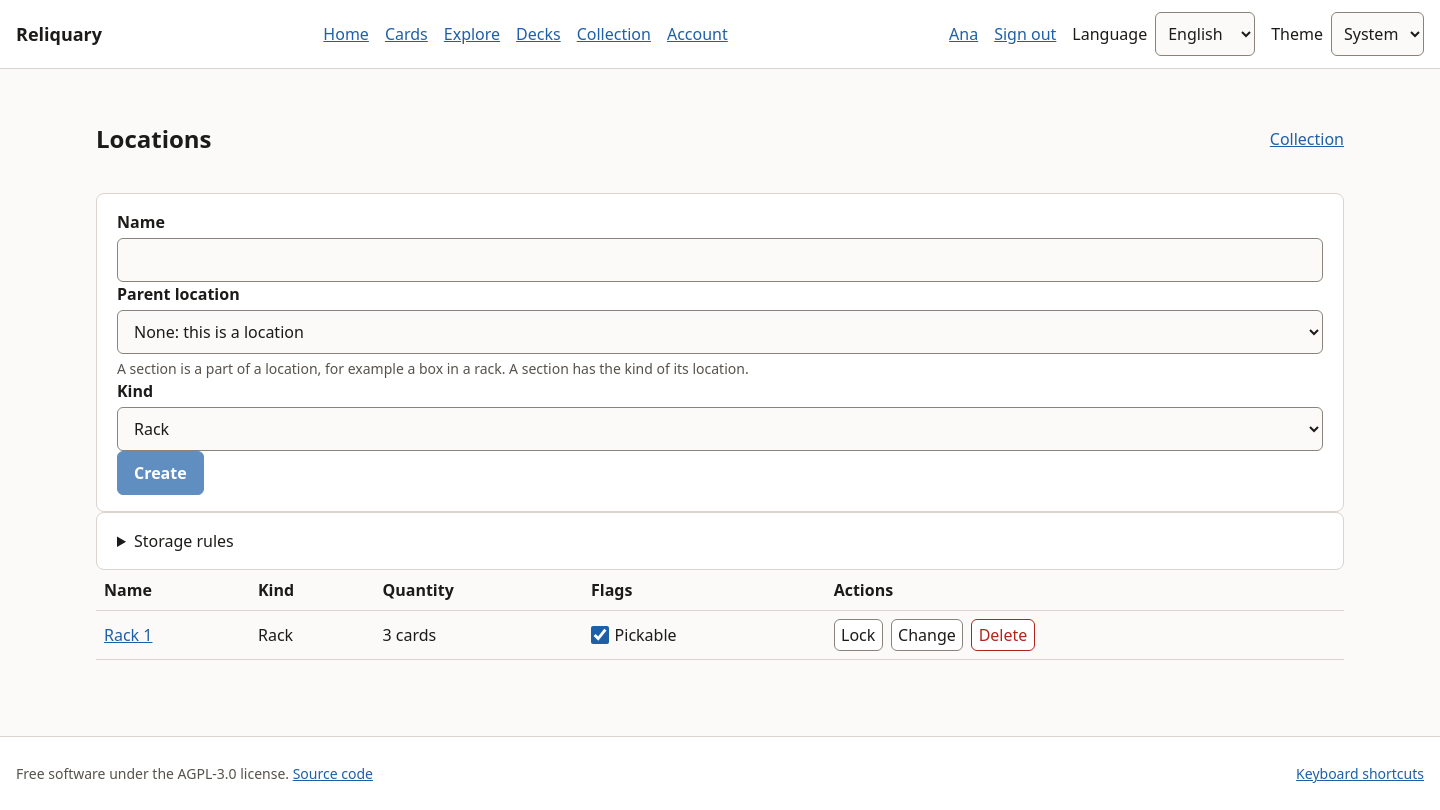
Scenario: collection › locks a location and shows the error of a locked location
Click the button "Lock" at [858, 635], box [834,619,883,651]
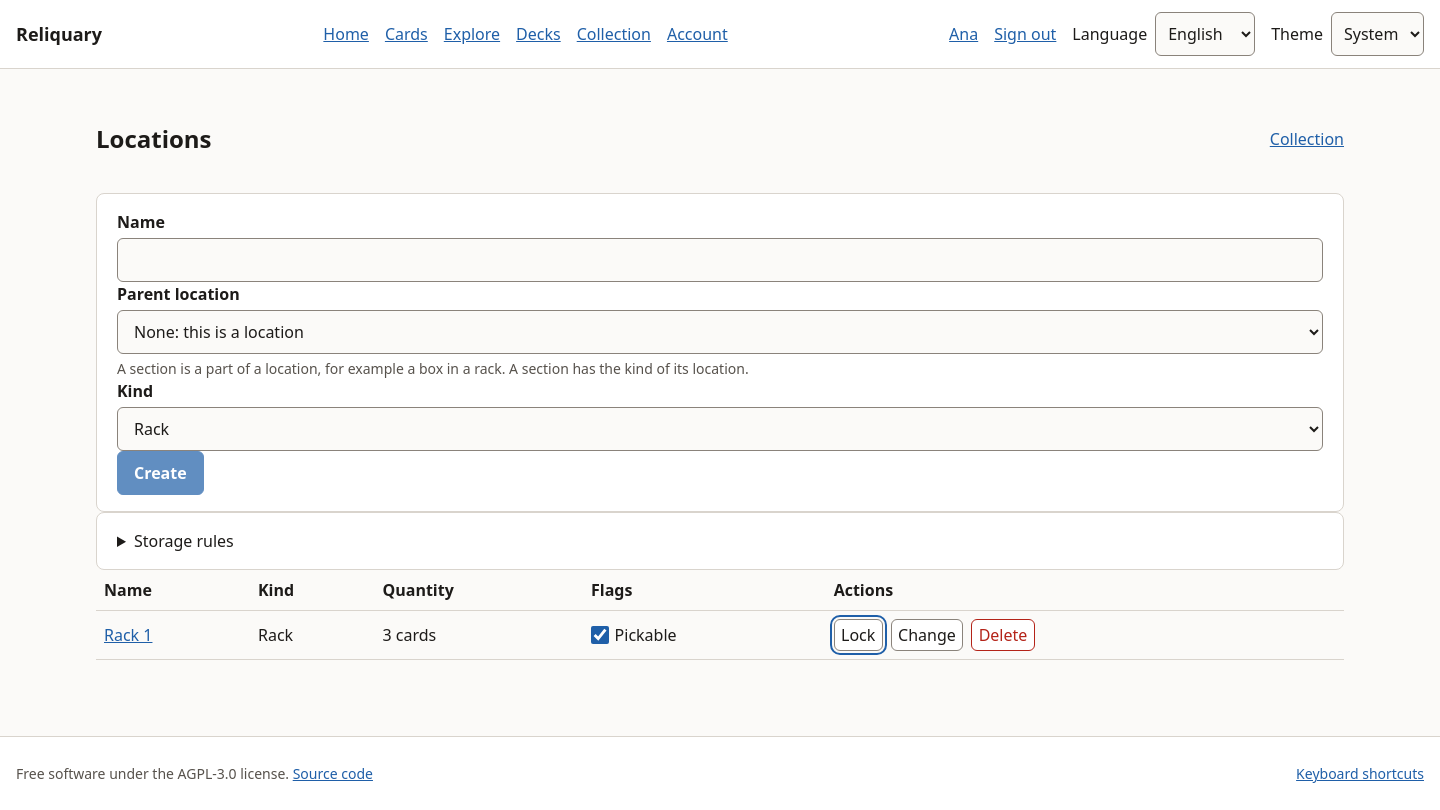
Click the button "Delete" at [1003, 635], box [971,619,1035,651]
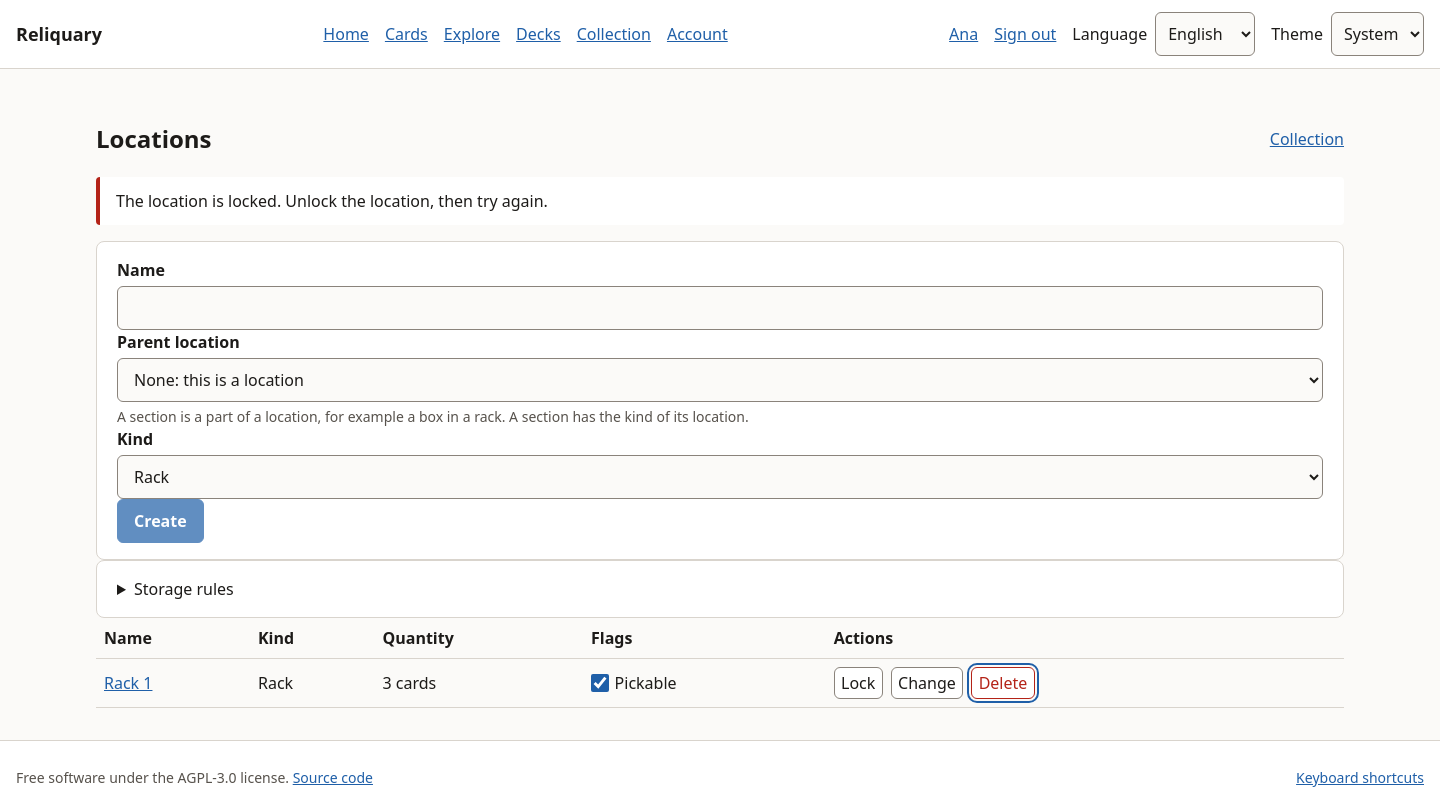
Check: the message reads "The location is locked. Unlock the location, then try again.", box [116,190,548,212]
